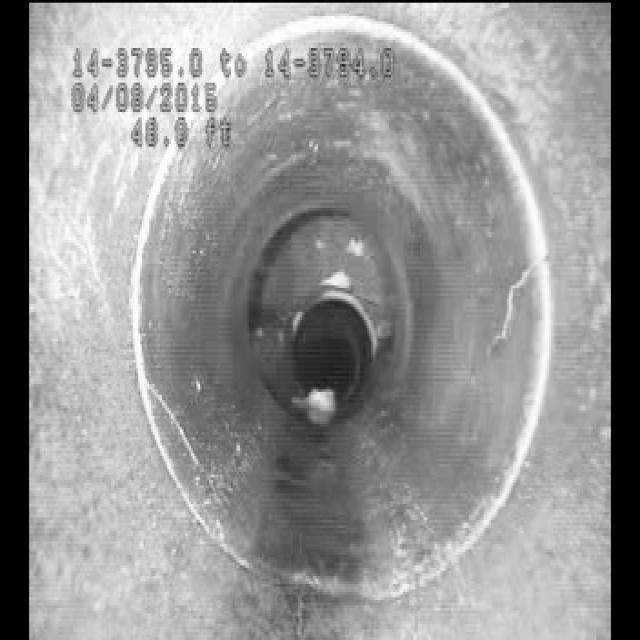Crack: (480, 238, 538, 402), (148, 369, 206, 473)
